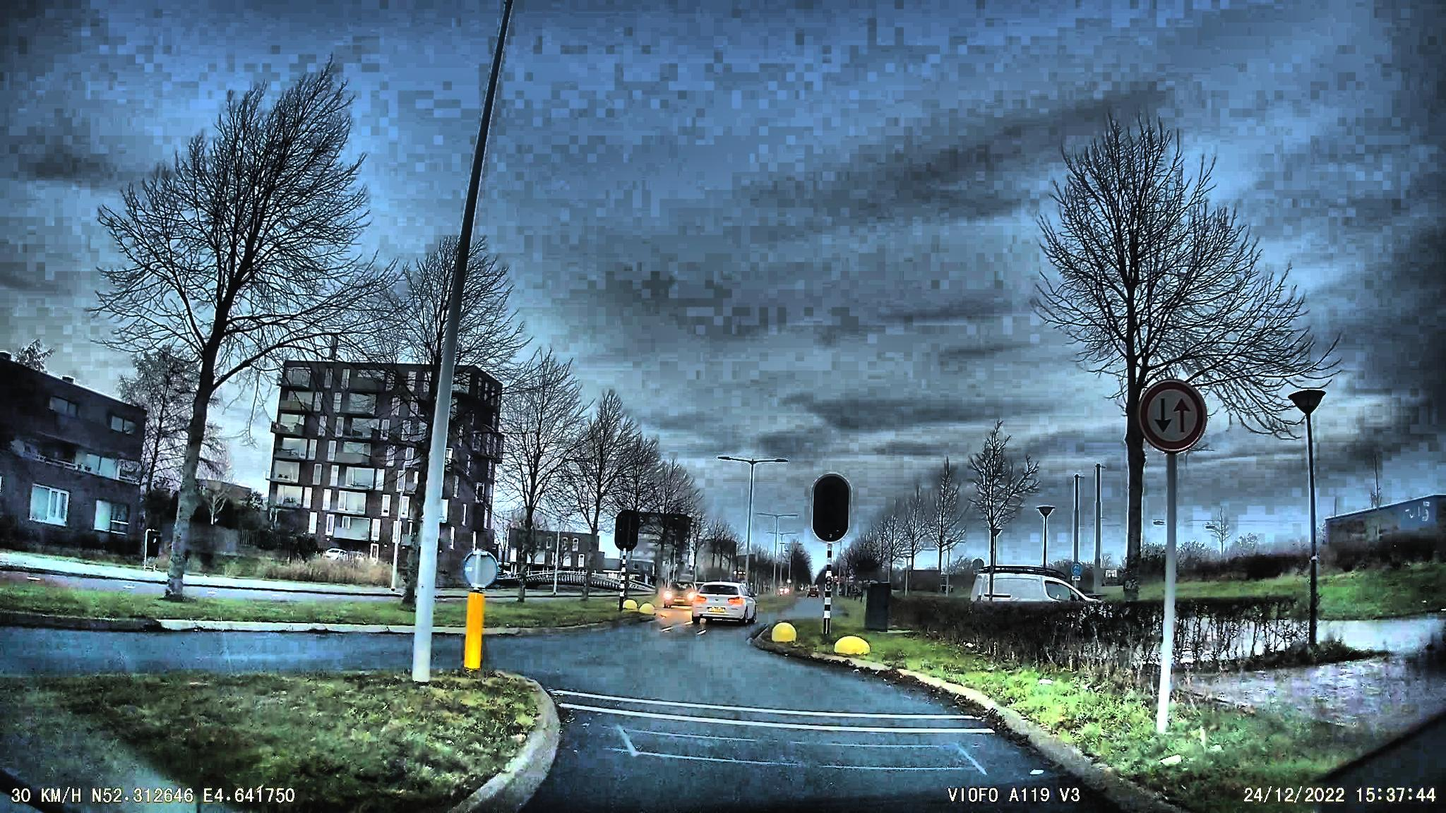Roads: (0, 628, 1181, 813)
